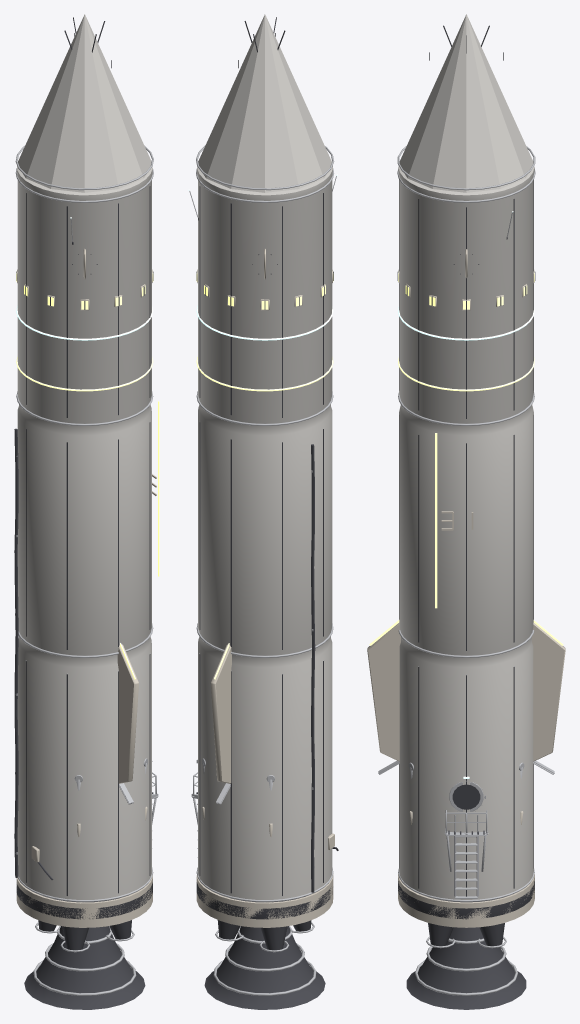
The model's file is starship.glb.
The picture shows the model from 3 angles, left to right: view 1: azimuth 30°, elevation 25°; view 2: azimuth 150°, elevation 25°; view 3: azimuth 270°, elevation 25°; orthographic projection.
Visible parts, largest first — view 1: hull, nose, engine_c, skirt, fin_-1, umbilical, shield, engine_o2, coolring_2, nosebase, csring_2, vseam_5_1 (+11 smaller); view 2: hull, nose, engine_c, skirt, fin_1, umbilical, shield, engine_o1, coolring_2, nosebase, csring_2, vseam_1_1 (+10 smaller); view 3: hull, nose, engine_c, fin_1, fin_-1, skirt, shield, boarding_door, longstrip, coolring_2, nosebase.
Boxes of the visible parts, box(x1,y1,x2,y2) form: hull: box(17, 166, 152, 899); nose: box(18, 14, 151, 192); engine_c: box(24, 926, 145, 1009); skirt: box(16, 875, 152, 927); fin_-1: box(117, 644, 138, 783); umbilical: box(14, 428, 18, 877); shield: box(16, 882, 152, 919); engine_o2: box(62, 926, 88, 950); coolring_2: box(33, 960, 136, 995); nosebase: box(15, 145, 153, 190); csring_2: box(16, 391, 153, 425); vseam_5_1: box(66, 674, 67, 895); hull: box(197, 165, 332, 899); nose: box(198, 14, 331, 192); engine_c: box(204, 926, 325, 1009); skirt: box(196, 874, 333, 927); fin_1: box(210, 644, 231, 783); umbilical: box(311, 444, 315, 892); shield: box(196, 882, 332, 919); engine_o1: box(261, 926, 287, 950); coolring_2: box(213, 960, 316, 995); nosebase: box(196, 145, 334, 190); csring_2: box(196, 391, 333, 425); vseam_1_1: box(199, 654, 200, 875); hull: box(398, 166, 534, 899); nose: box(399, 14, 533, 192); engine_c: box(406, 927, 526, 1009); fin_1: box(532, 622, 565, 761); fin_-1: box(367, 622, 400, 761); skirt: box(398, 874, 534, 927); shield: box(398, 881, 534, 919); boarding_door: box(449, 782, 483, 811); longstrip: box(435, 433, 437, 608); coolring_2: box(415, 959, 517, 995); nosebase: box(397, 146, 535, 190).
Size of the model in its own units: 6.43 by 47.7 by 8.84.
